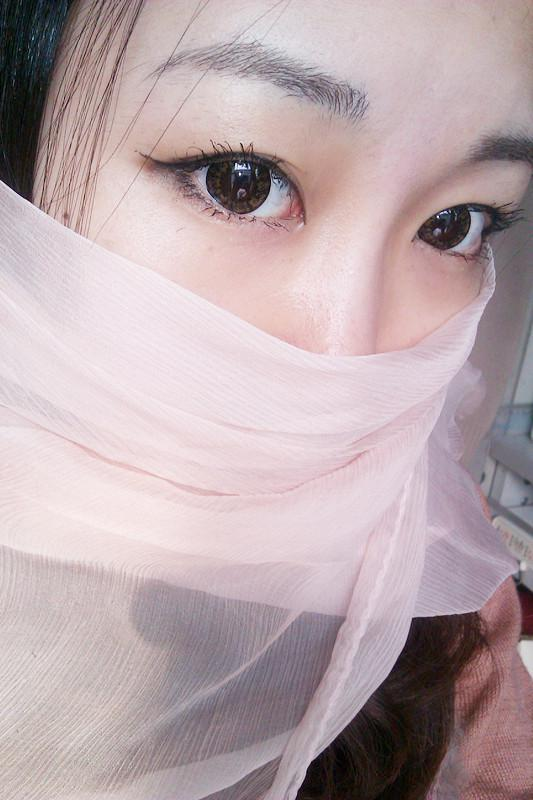WRONG: (63, 28, 533, 499)
